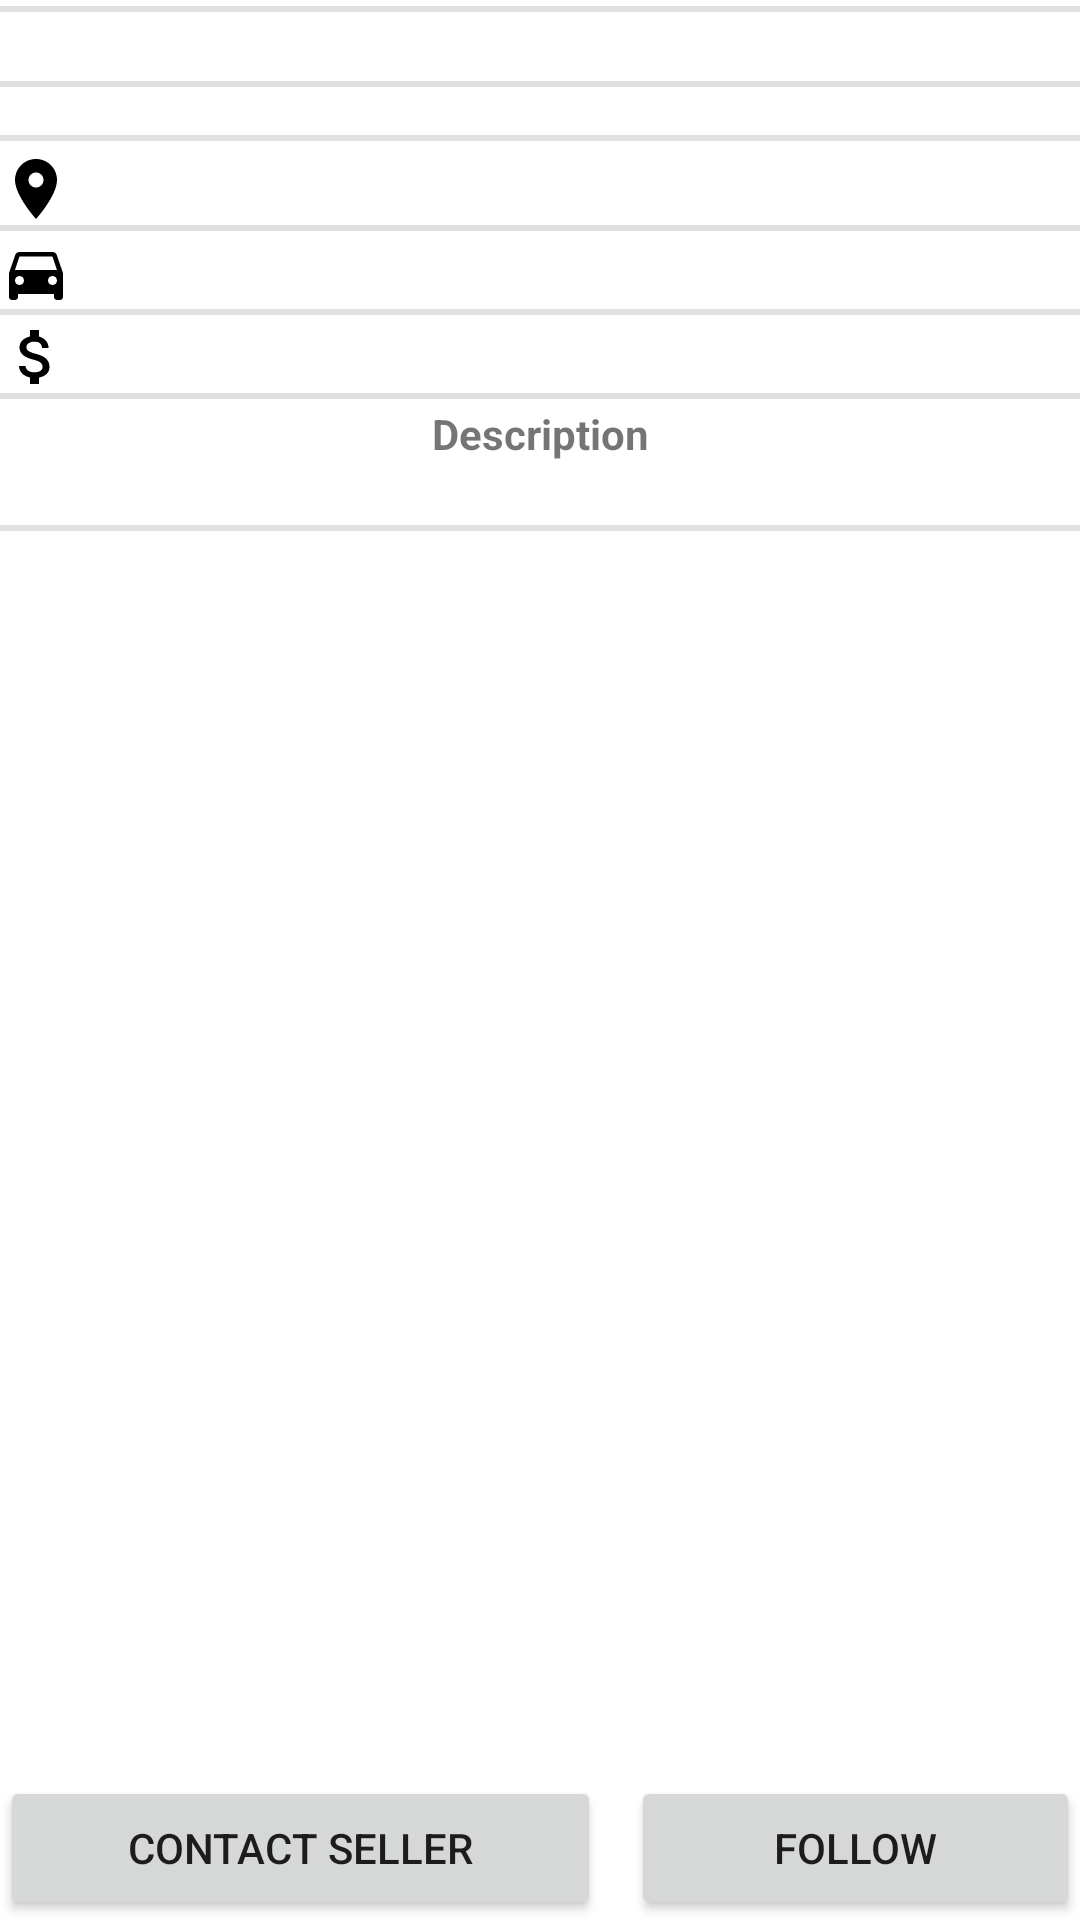

Icon click points for this 1080x1920 phone screenshot, format (x,y):
attach money: (34,357)
directions car: (36,276)
location on: (36,189)
